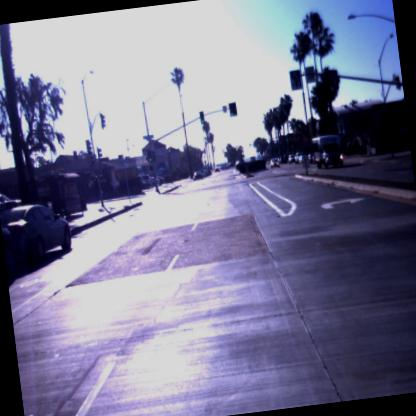trafficlight: (198, 109, 206, 125), (228, 103, 234, 117)
